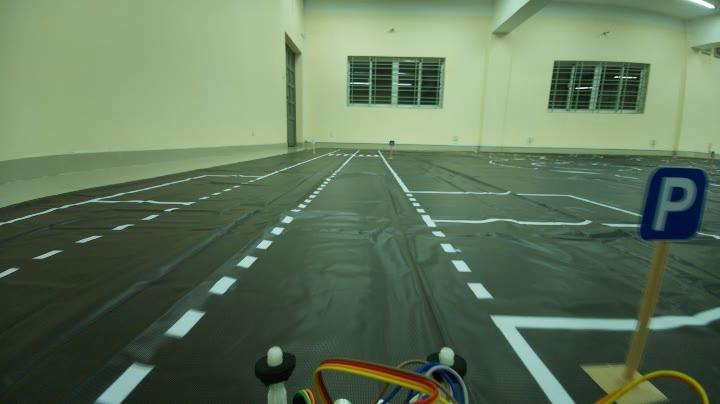parking: (639, 162, 709, 247)
